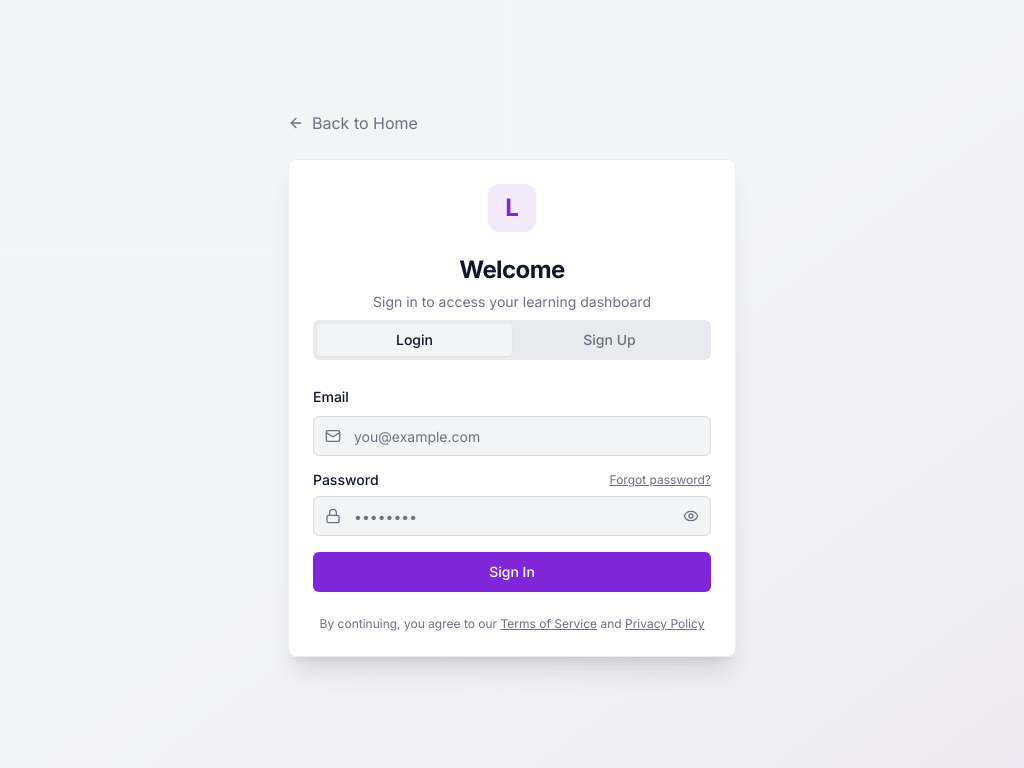
Test: Auth page — Sign Up tab › renders signup form fields after switching tab
Click the tab "Sign Up": (610, 340) top-left (512, 324), bottom-right (707, 356)
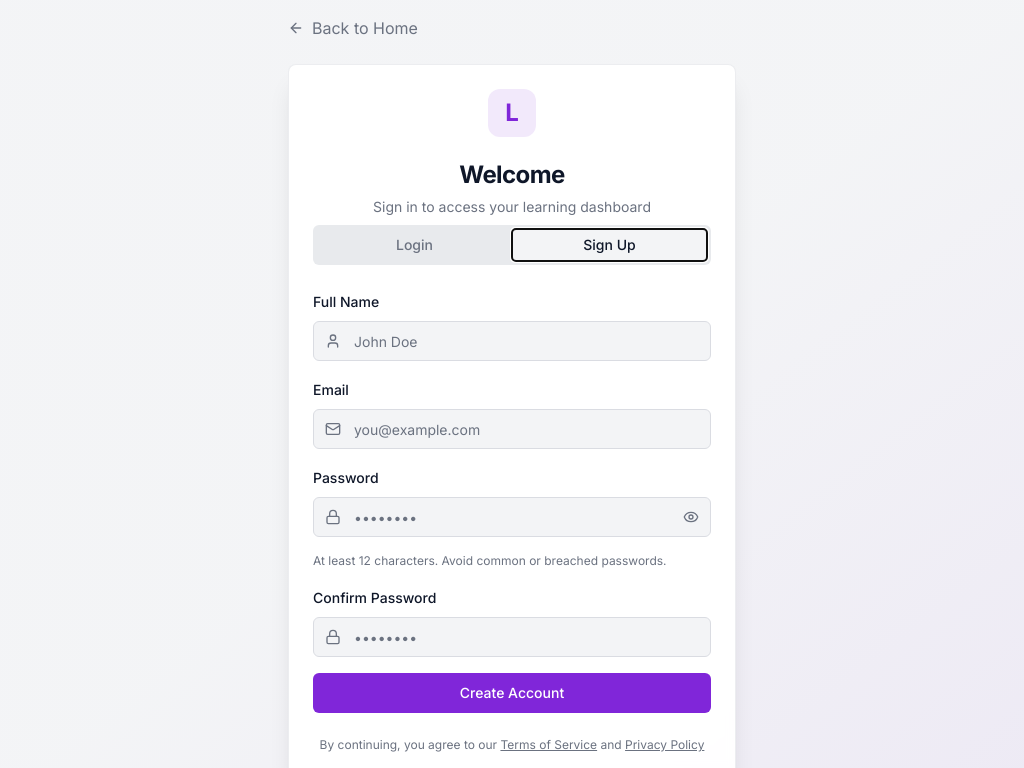
Now the field labelled "Full Name" is shown, box top-left (313, 321), bottom-right (711, 361)
Now the password field labelled "Confirm Password" is shown, box top-left (313, 617), bottom-right (711, 657)
